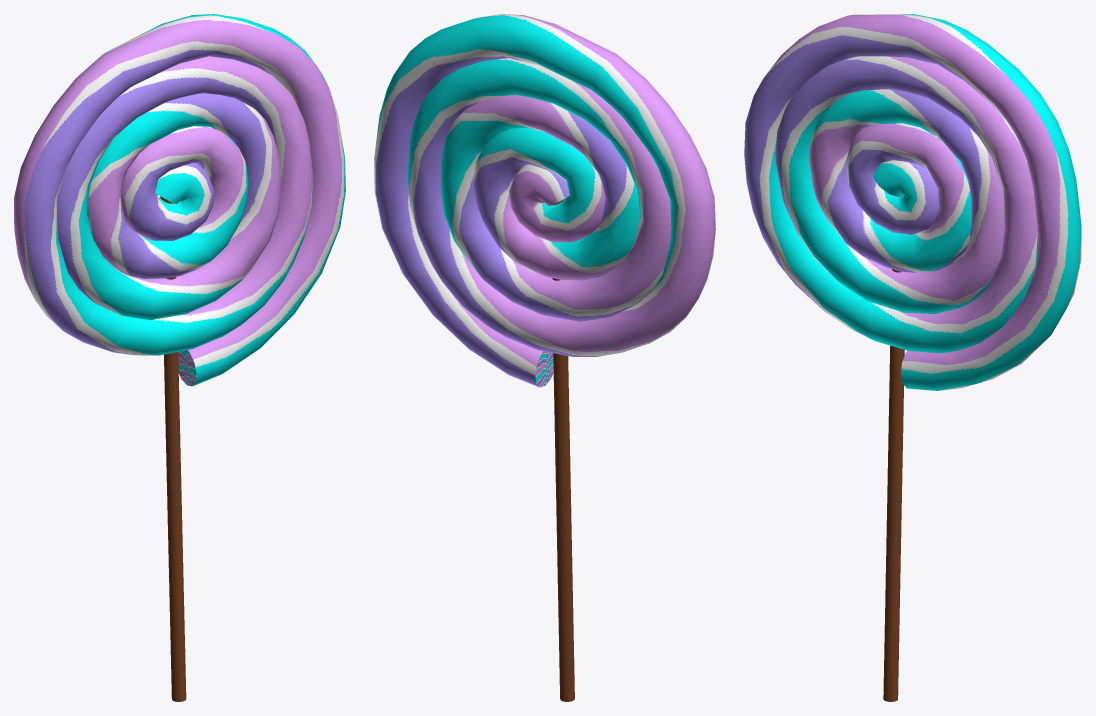
File: lollipop.fbx
3 views of the same model, side by side, from view 1: azimuth 30°, elevation 25°; view 2: azimuth 150°, elevation 25°; view 3: azimuth 330°, elevation 25° (orthographic). The views are drawn at different scales.
Visible parts, largest first — view 1: NurbsPath; view 2: NurbsPath; view 3: NurbsPath.
Boxes of the visible parts, x1,y1,x2,y2 form: NurbsPath: [14, 14, 345, 701]; NurbsPath: [374, 14, 715, 701]; NurbsPath: [744, 14, 1081, 701].
Bounding box in the file's own units: 2148 × 4185 × 326.
